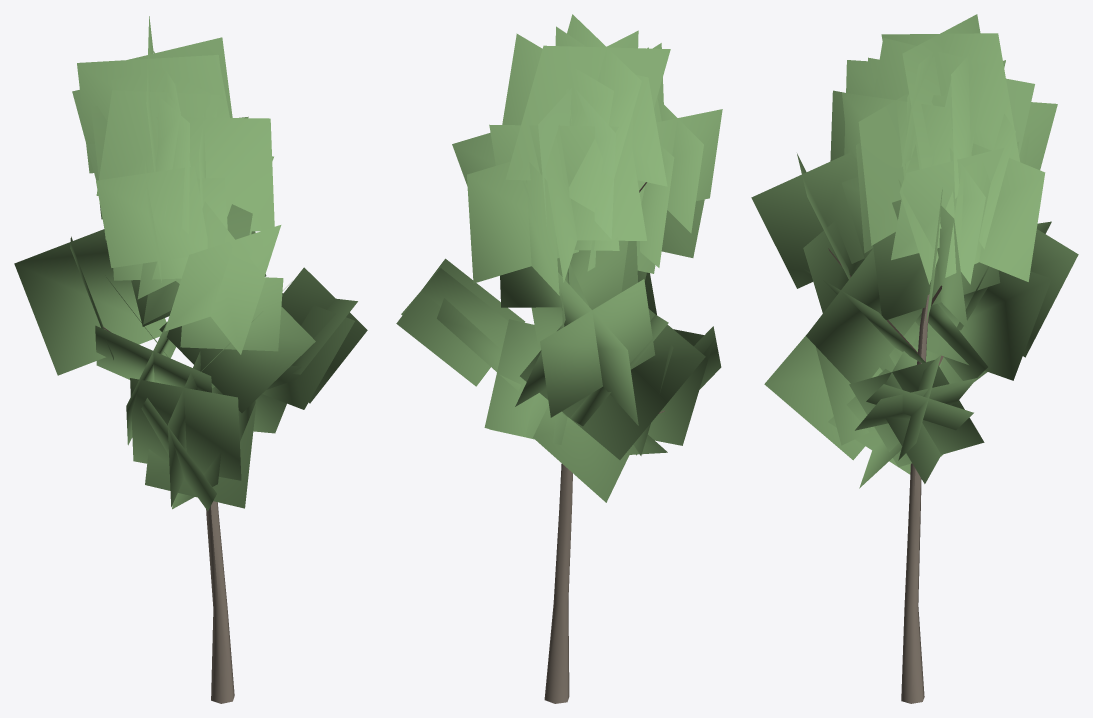
The model's file is tree_birch_a_lod1.glb.
3 renders of one model, left to right at view 1: azimuth 30°, elevation 25°; view 2: azimuth 150°, elevation 25°; view 3: azimuth 270°, elevation 25°, orthographic. The views are drawn at different scales.
Parts seen in each view (by area): view 1: tree_birch_a_lod1; view 2: tree_birch_a_lod1; view 3: tree_birch_a_lod1.
Part boxes in pixels (x1,y1,x2,y2): tree_birch_a_lod1: (14,16,367,703); tree_birch_a_lod1: (396,14,722,703); tree_birch_a_lod1: (751,14,1078,703).
Size of the model in its own units: 6.52 by 14.44 by 6.58.
